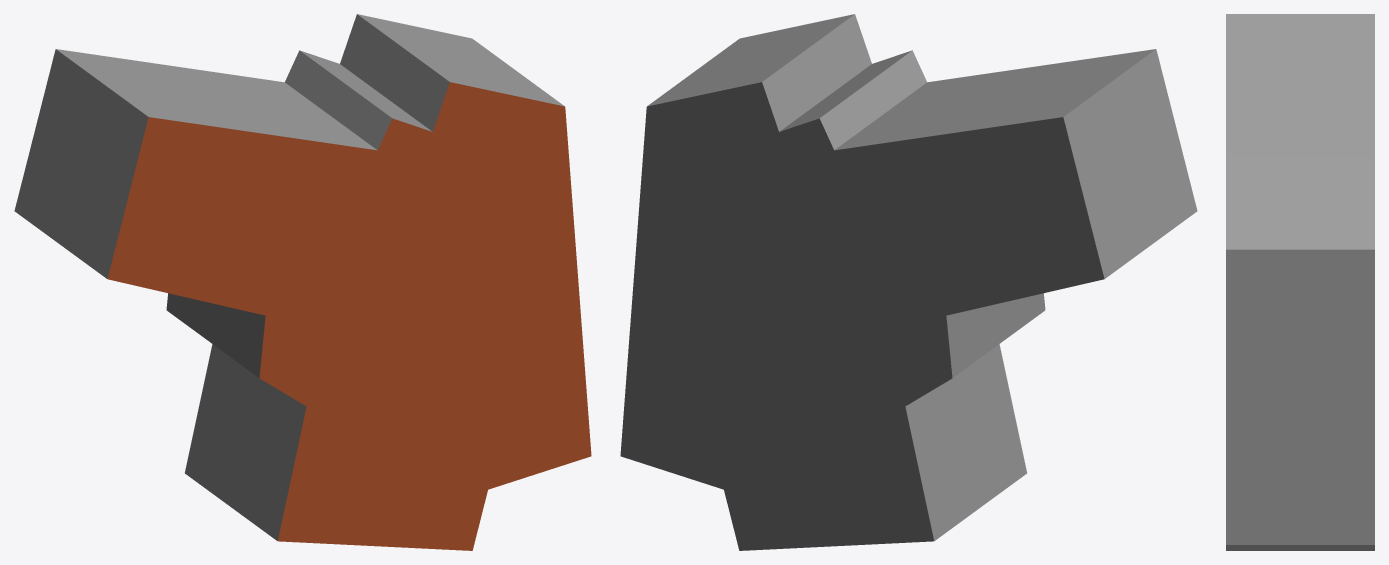
Rendered from construction_4635_assumed_A_Casa_h6m.obj.
3 renders of one model, left to right at view 1: azimuth 30°, elevation 25°; view 2: azimuth 150°, elevation 25°; view 3: azimuth 270°, elevation 25°, orthographic. The views are drawn at different scales.
Parts seen in each view (by area): view 1: construction_4635_assumed_A_Casa; view 2: construction_4635_assumed_A_Casa; view 3: construction_4635_assumed_A_Casa.
Part boxes in pixels (x1,y1,x2,y2): construction_4635_assumed_A_Casa: [14, 14, 591, 550]; construction_4635_assumed_A_Casa: [620, 14, 1197, 550]; construction_4635_assumed_A_Casa: [1226, 14, 1374, 550].
Size of the model in its own units: 18.03 by 18.26 by 6.
